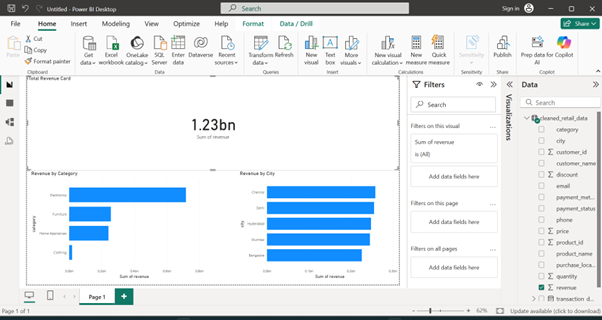

This screenshot's page, from the dashboard's own definition file:
{"tool":"powerbi","page":{"name":"Page 1","canvas":[1280,720],"ordinal":0},"visuals":[{"type":"card","title":"Total Revenue Card","fields":{"Values":["Sum(cleaned_retail_data.revenue)"]},"box":[0,0,1279.4,326.9],"z":0},{"type":"clusteredBarChart","title":"Revenue by Category","fields":{"Category":["cleaned_retail_data.category"],"Y":["Sum(cleaned_retail_data.revenue)"]},"box":[9.4,326.9,602.8,378],"z":1},{"type":"barChart","title":"Revenue by City","fields":{"Category":["cleaned_retail_data.city"],"Y":["Sum(cleaned_retail_data.revenue)"]},"box":[727.6,326.9,551.8,378],"z":2}]}

Visuals, with their boxes on the page's 1280x720 design canvas (x1, y1, x2, y2). These are canvas units, not pixel positions in the 602x320 screenshot, which may show the page scaled, cropped or inside an application window:
"Total Revenue Card" card: left=0, top=0, right=1279, bottom=327
"Revenue by Category" clusteredBarChart: left=9, top=327, right=612, bottom=705
"Revenue by City" barChart: left=728, top=327, right=1279, bottom=705
